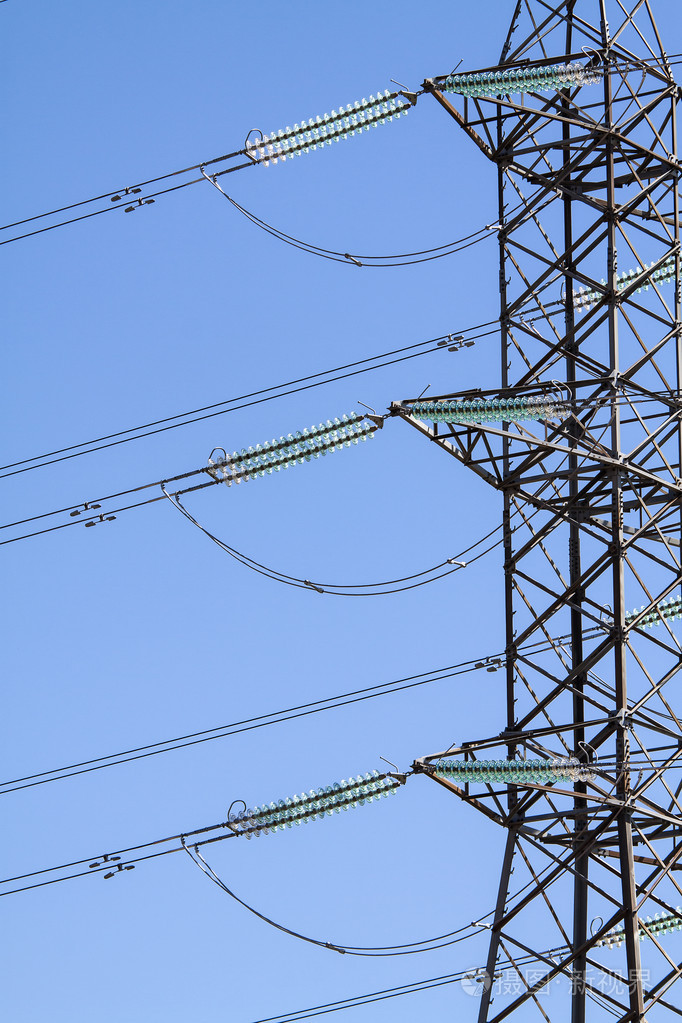insulator: (246, 84, 408, 169), (229, 771, 400, 842), (211, 412, 373, 486), (569, 253, 681, 310), (409, 395, 572, 430), (450, 66, 600, 104), (436, 757, 598, 788), (599, 915, 682, 949), (626, 597, 682, 629)
